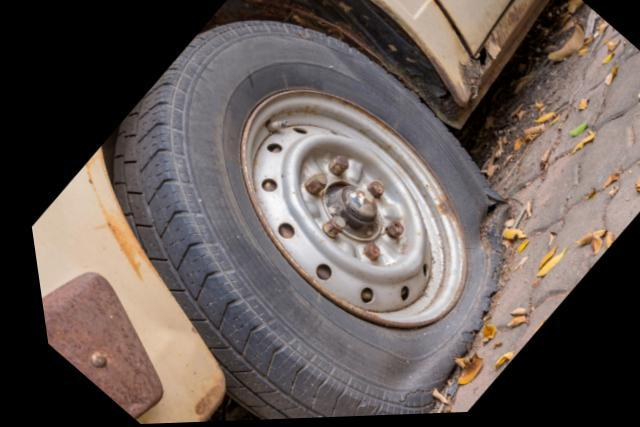tire flat: (107, 22, 509, 421)
